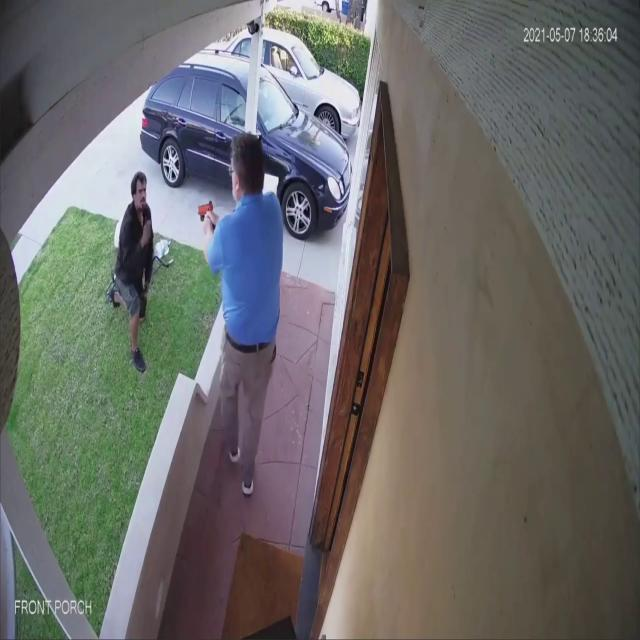gun: (197, 202, 216, 232)
